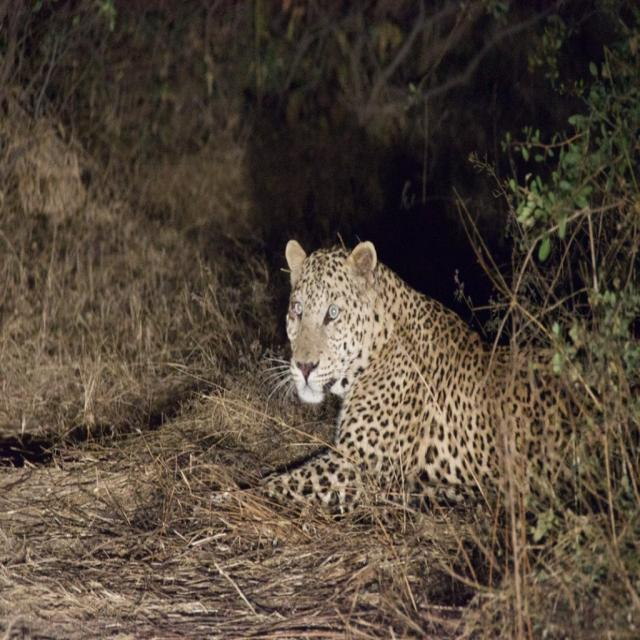Leopard: (269, 240, 567, 500)
